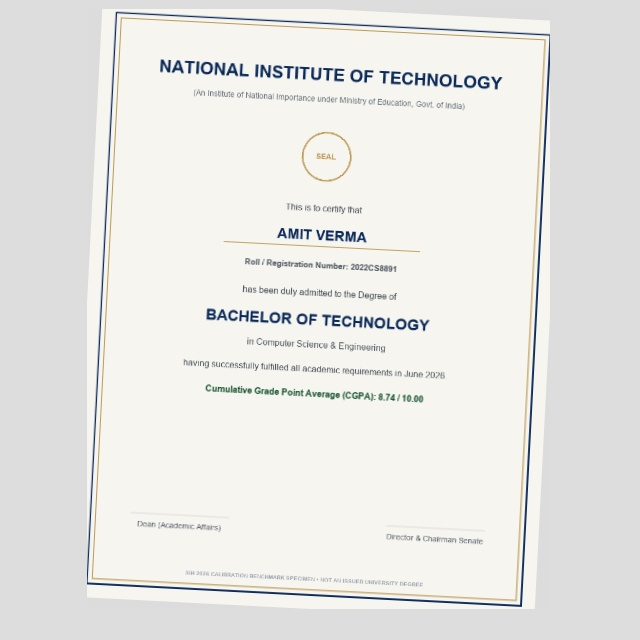marksheet: (87, 9, 550, 609)
